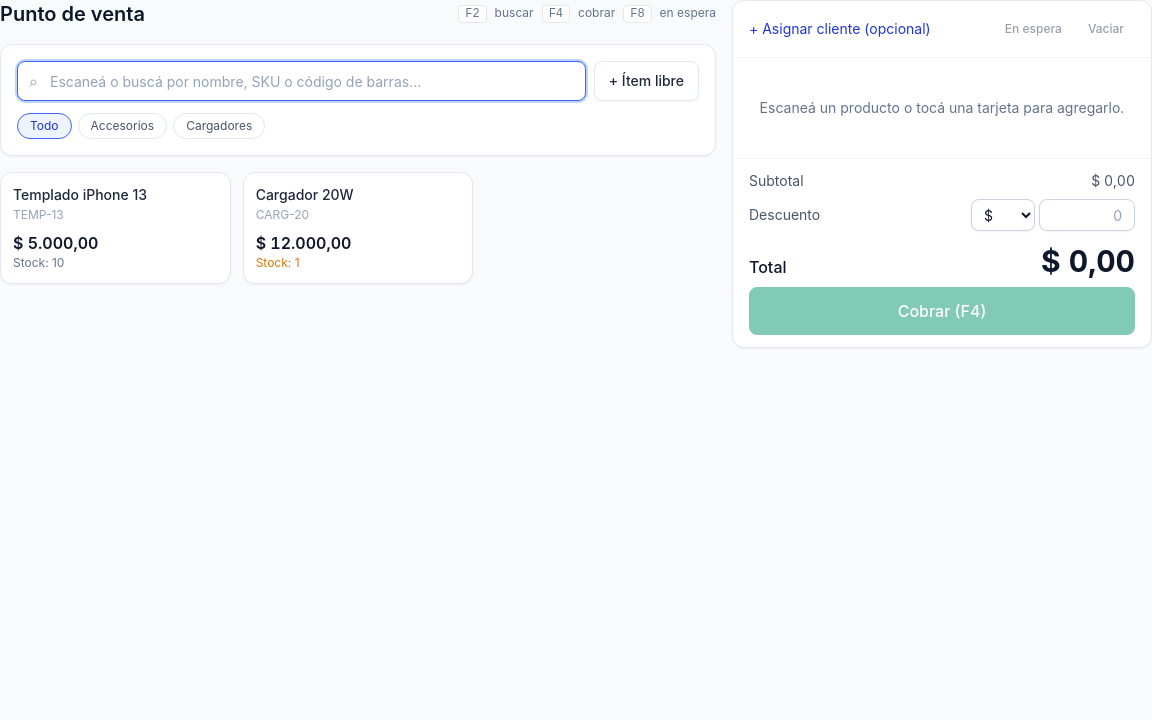
Scenario: PosPage › only lets cash give change
Click the button "Cargador 20W CARG-20 $ 12.000,00 Stock: 1" at (358, 228), box [243,172,473,284]
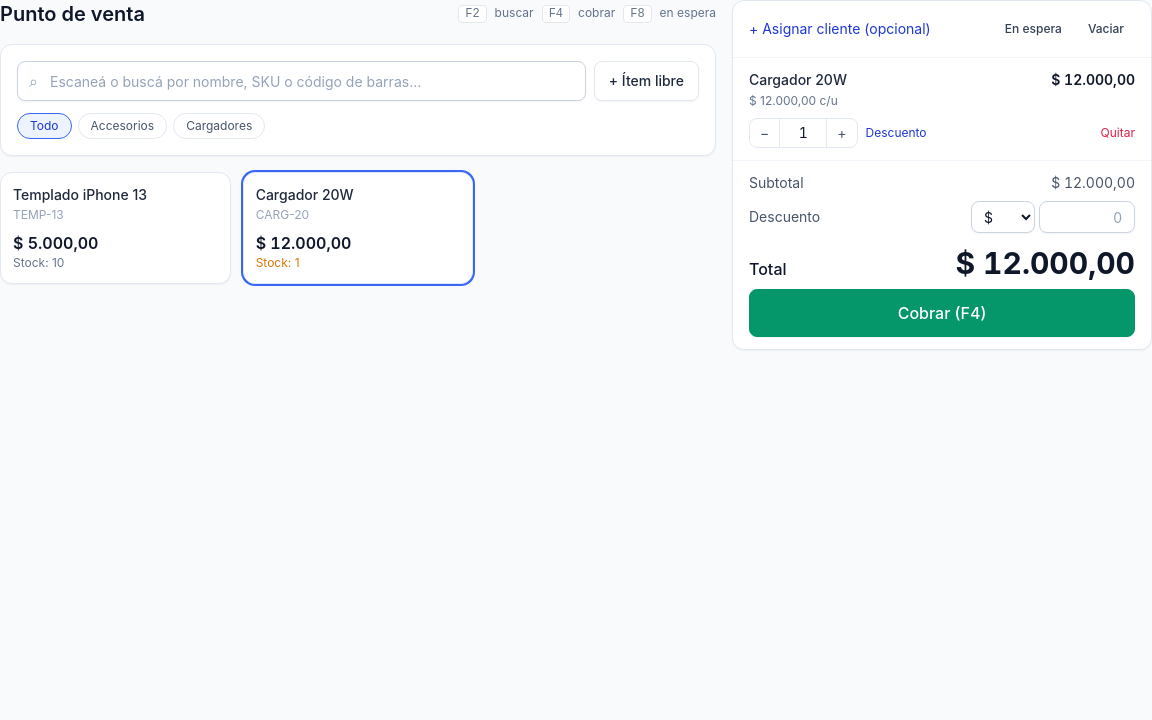
Click the button "Cobrar (F4)" at (942, 313), box [749,289,1135,337]
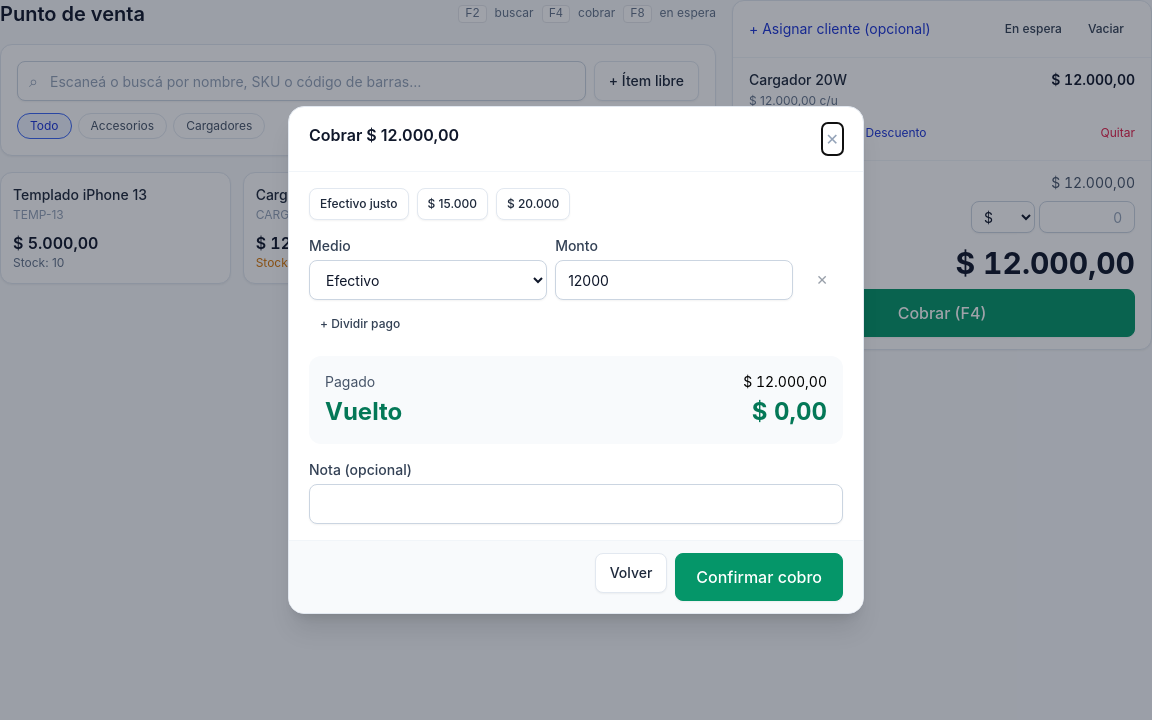
Select "Tarjeta" in the dropdown labelled "Medio" at (428, 280), box [309,260,547,300]
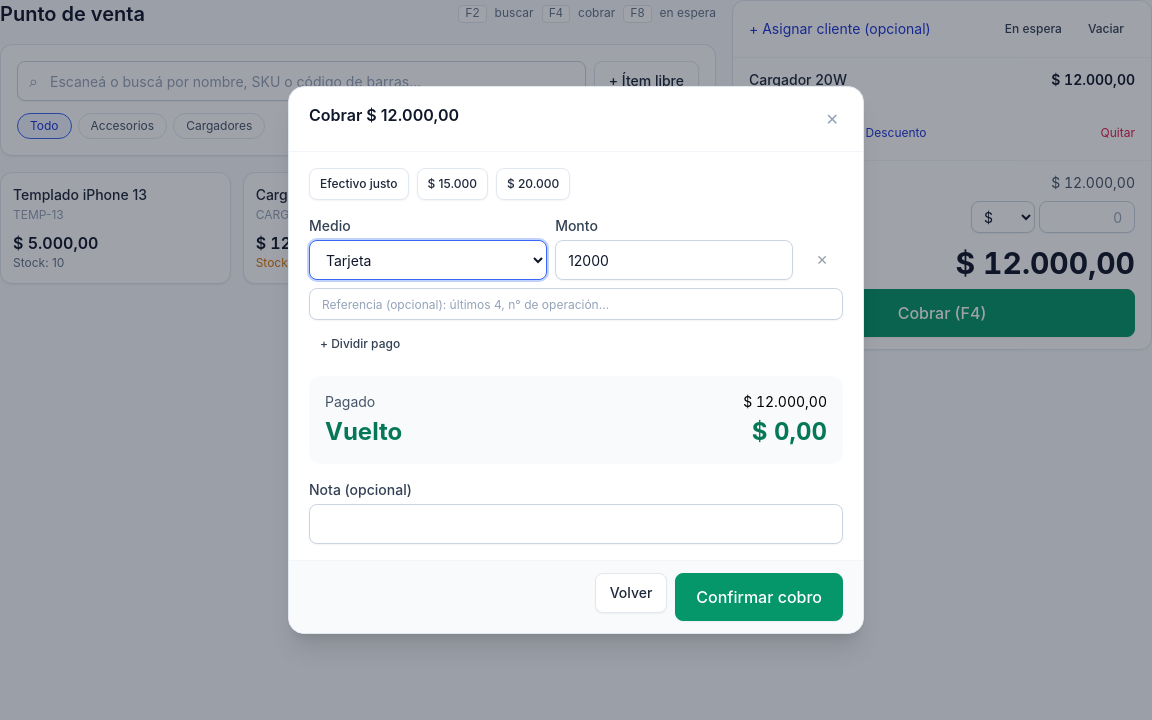
Clear the field labelled "Monto" at (674, 260), box [555,240,793,280]
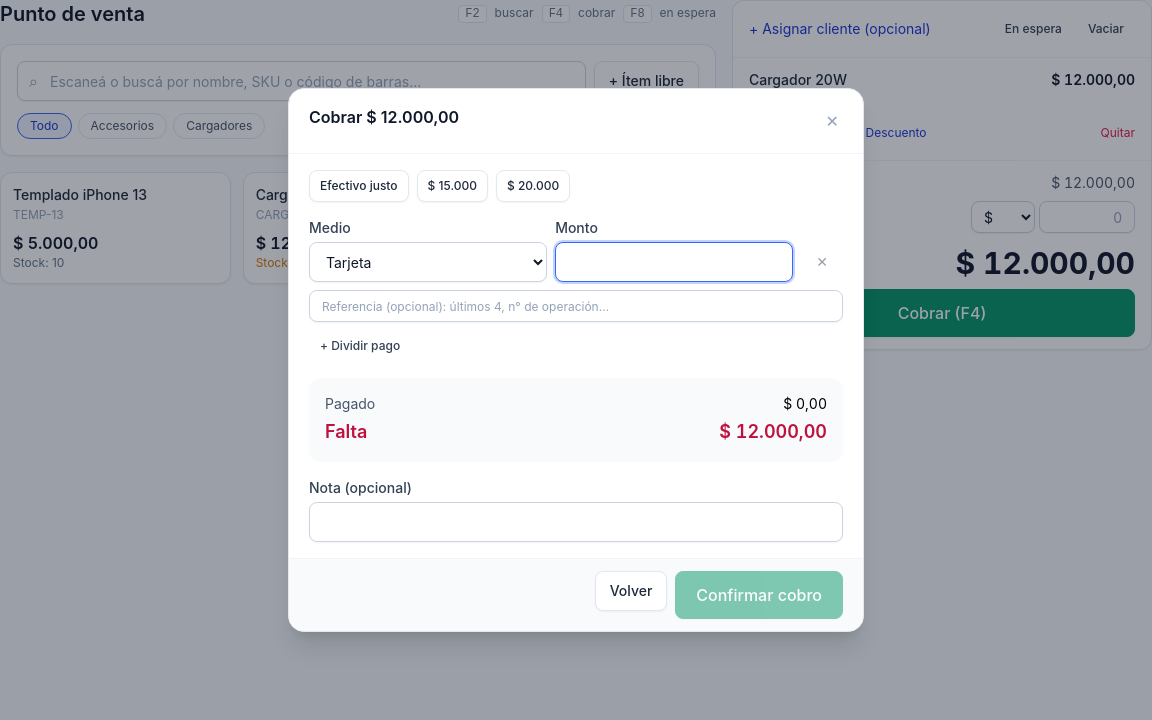
Type "15000" into the field labelled "Monto" at (674, 262), box [555,242,793,282]
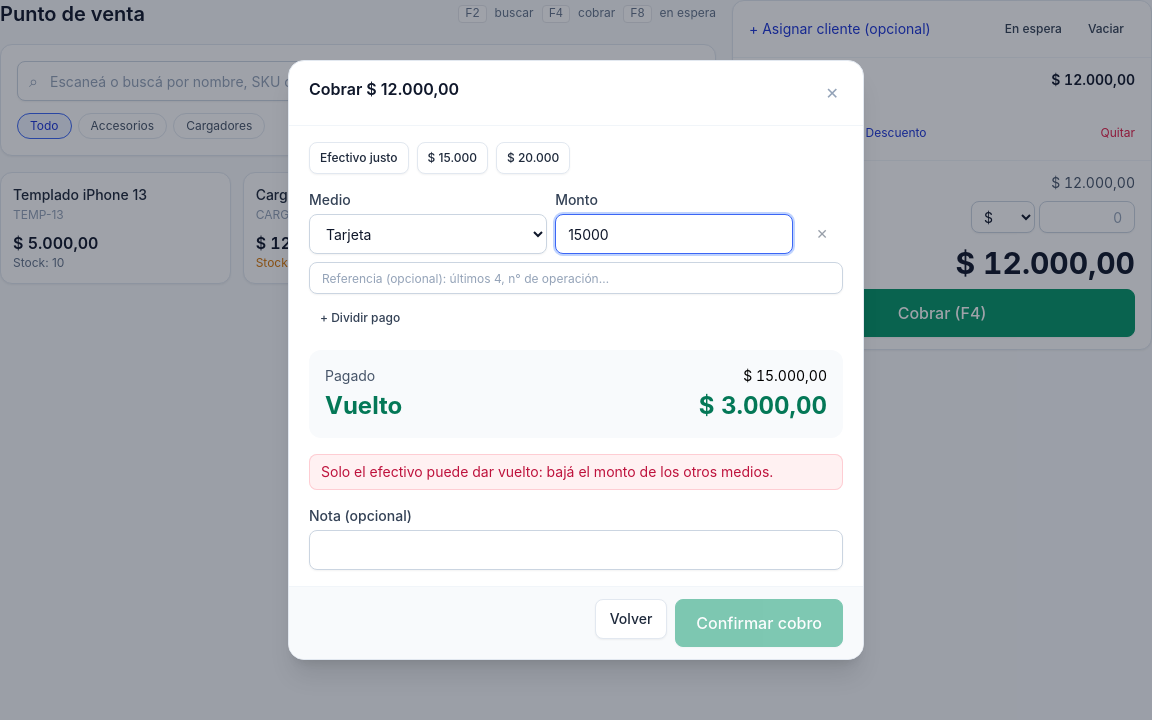
expect the button "Confirmar cobro" is disabled: met, box [675,599,843,647]
expect the text "Solo el efectivo puede dar vuelto" is shown: met, box [321,463,773,480]
